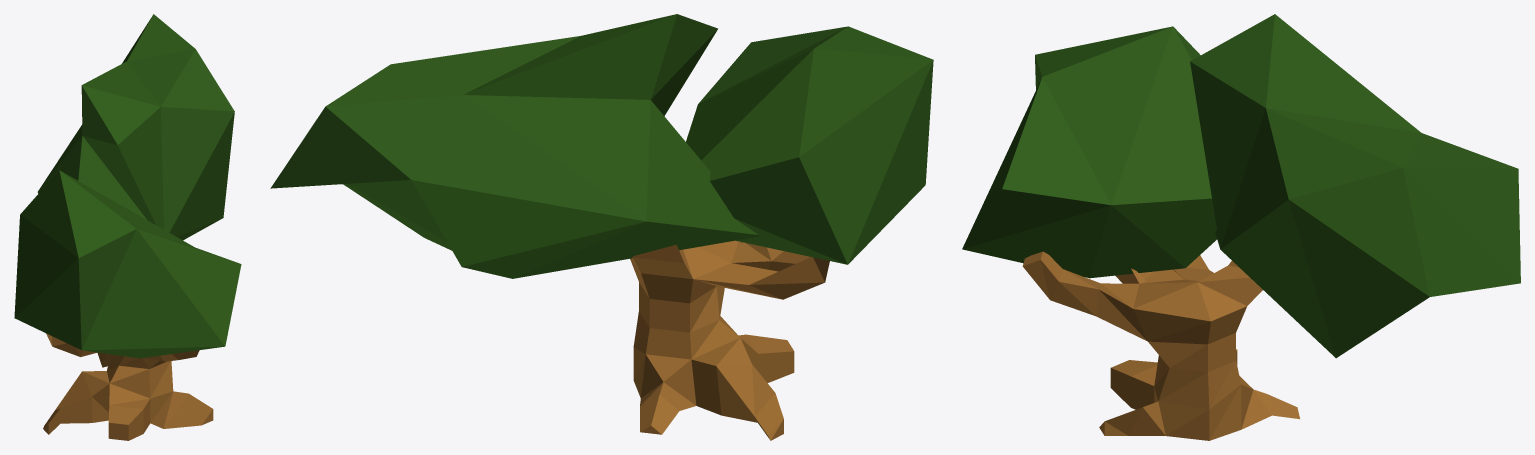
Rendered from BIG TREE.fbx.
The picture shows the model from 3 angles, left to right: view 1: azimuth 30°, elevation 25°; view 2: azimuth 150°, elevation 25°; view 3: azimuth 270°, elevation 25°; orthographic projection. The views are drawn at different scales.
Visible parts, largest first — view 1: Metaball_1, Cylinder; view 2: Metaball_1, Cylinder; view 3: Metaball_1, Cylinder.
Part boxes in pixels (x1,y1,x2,y2): Metaball_1: [14, 14, 241, 358]; Cylinder: [43, 333, 213, 440]; Metaball_1: [270, 14, 933, 278]; Cylinder: [630, 240, 829, 440]; Metaball_1: [962, 14, 1520, 358]; Cylinder: [1022, 251, 1299, 440].
Bounding box in the file's own units: 1406 × 1394 × 1748.
Materials: 1 (1 with a texture image).
